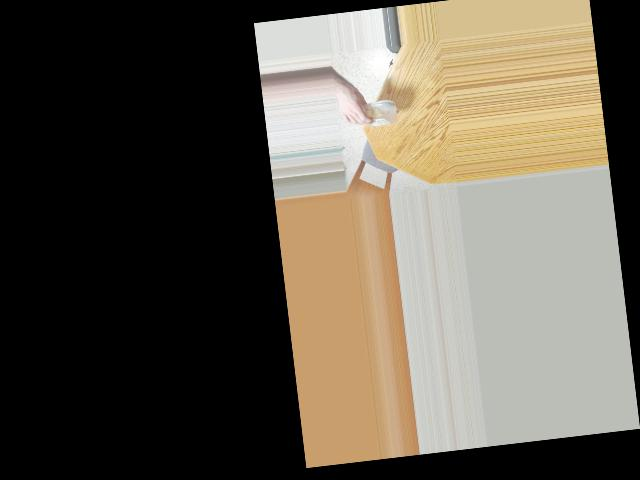cheese: (352, 89, 403, 135)
